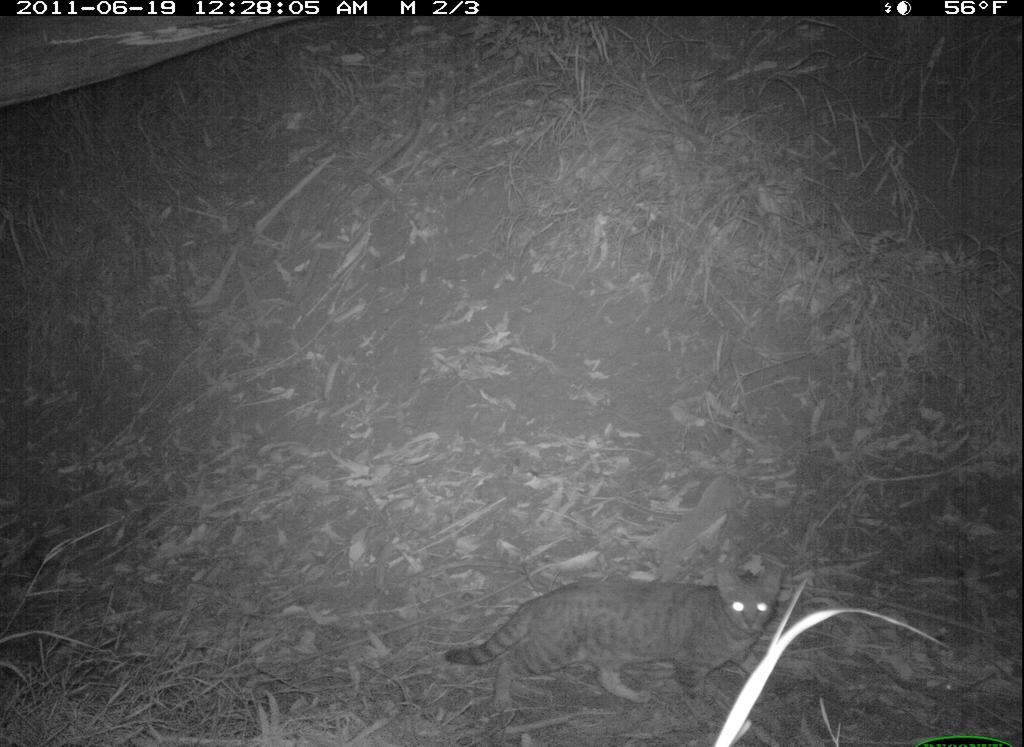cat: (442, 557, 793, 725)
